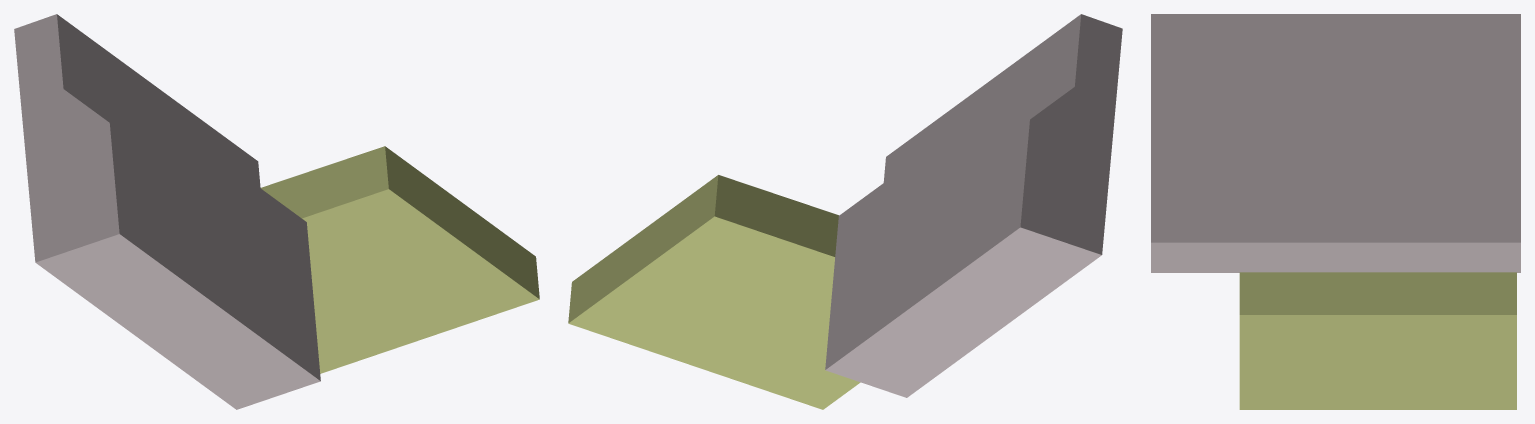
3 views of the same model, side by side, from view 1: azimuth 30°, elevation 25°; view 2: azimuth 150°, elevation 25°; view 3: azimuth 270°, elevation 25° (orthographic). The views are drawn at different scales.
Visible parts, largest first — view 1: 0_2_3_3_3_1_0_0_2_1_2; view 2: 0_2_3_3_3_1_0_0_2_1_2; view 3: 0_2_3_3_3_1_0_0_2_1_2.
Part boxes in pixels (<box>): 0_2_3_3_3_1_0_0_2_1_2: <box>14,14,539,409</box>; 0_2_3_3_3_1_0_0_2_1_2: <box>568,14,1122,409</box>; 0_2_3_3_3_1_0_0_2_1_2: <box>1151,14,1520,409</box>.
Size of the model in its own units: 12.82 by 9.17 by 12.
